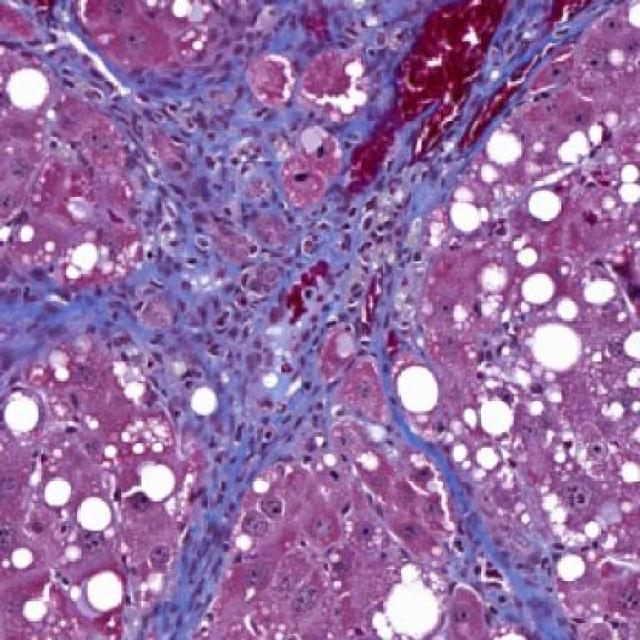fibrosis: (91, 225, 410, 424), (120, 91, 341, 246)
